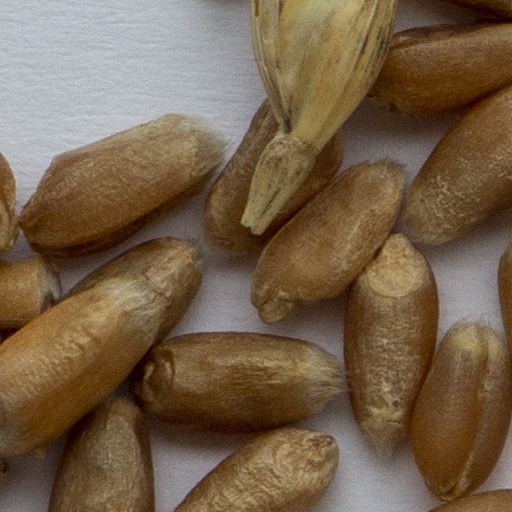Peel-poly: (251, 0, 396, 233)
Wheat-grain-damaged-poly: (0, 254, 61, 330)
